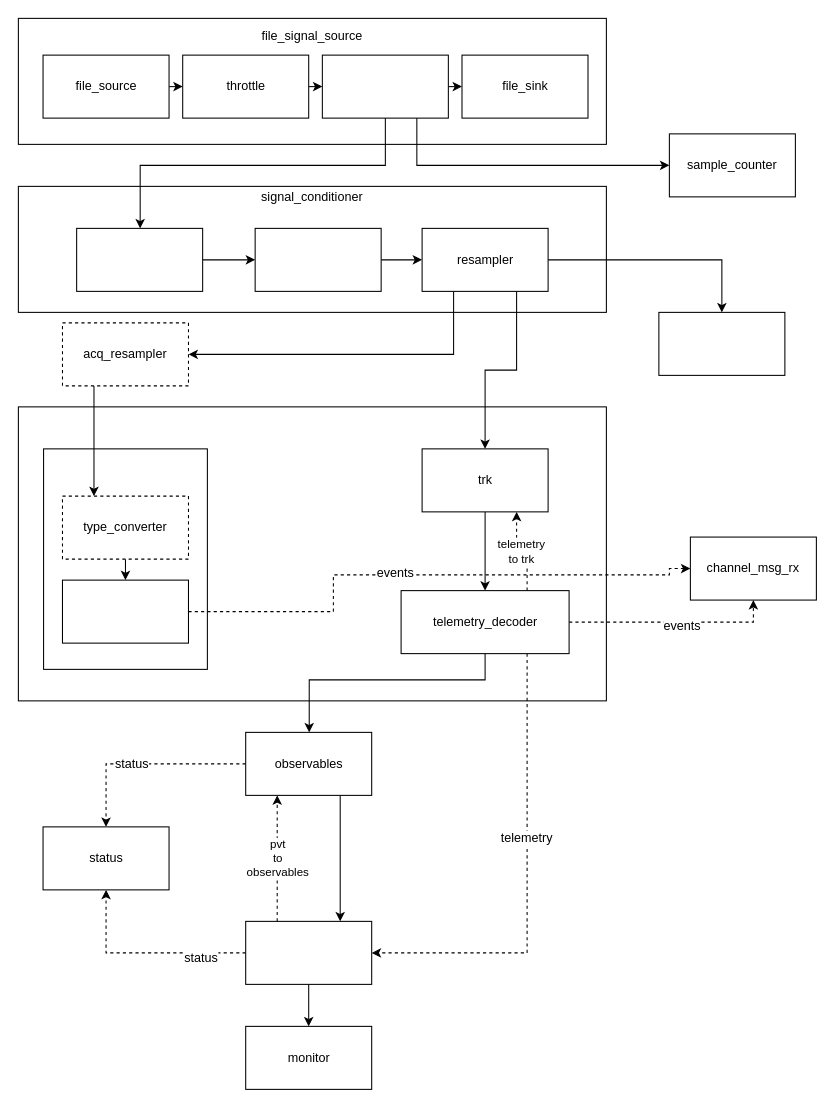
The diagram is 835 pixels wide and 1108 high, and some of its shapes have lost their labels. The box of each missing label's shape, as (x1, y1, x2, y2) in pixels:
acq: (43, 448, 207, 669)
aquisition: (61, 579, 188, 643)
channels: (17, 406, 606, 701)
data_type_adapter: (76, 227, 203, 291)
input_filter: (254, 227, 381, 291)
null_sinks: (658, 311, 785, 375)
pvt: (245, 920, 372, 984)
valve_: (321, 54, 448, 118)
